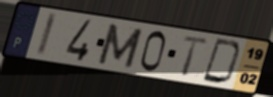0: (139, 29, 167, 73)
4: (64, 19, 95, 63)
D: (200, 37, 244, 86)
I: (34, 11, 59, 58)
M: (95, 22, 145, 70)
T: (180, 34, 212, 78)
